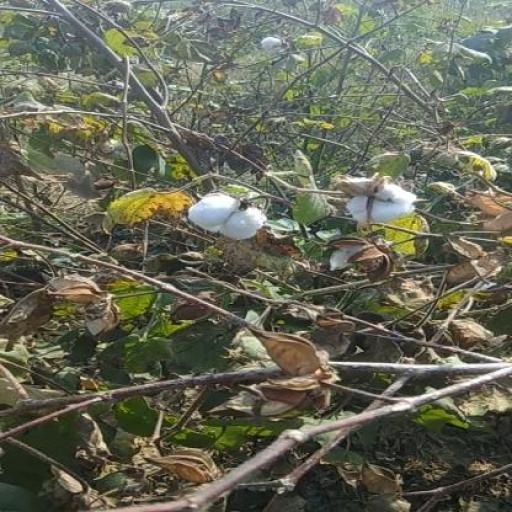cotton_ready: (152, 186, 282, 252), (315, 168, 425, 242)
